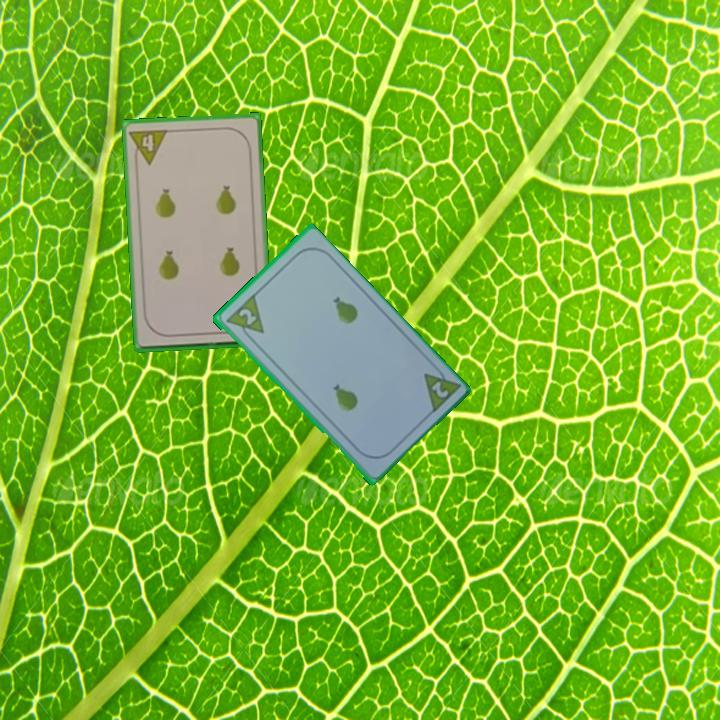2p: (235, 304, 259, 329), (427, 377, 451, 401)
4p: (126, 125, 170, 168)
